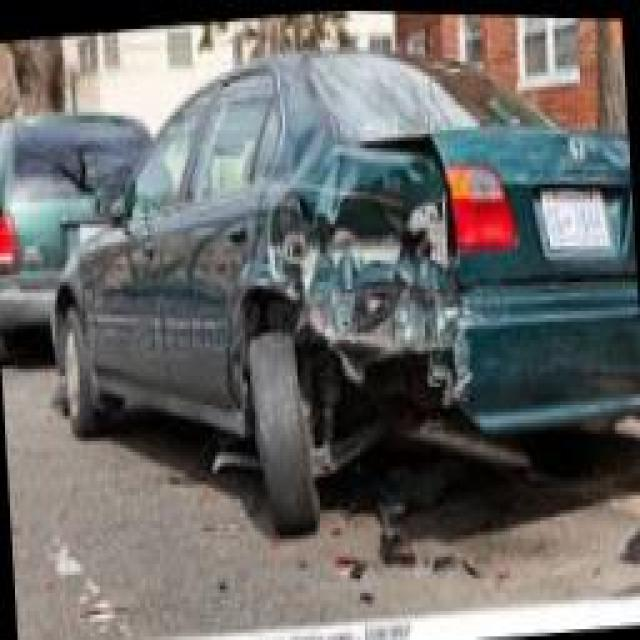Bumper: (315, 282, 640, 466)
Fender: (251, 145, 460, 341)
